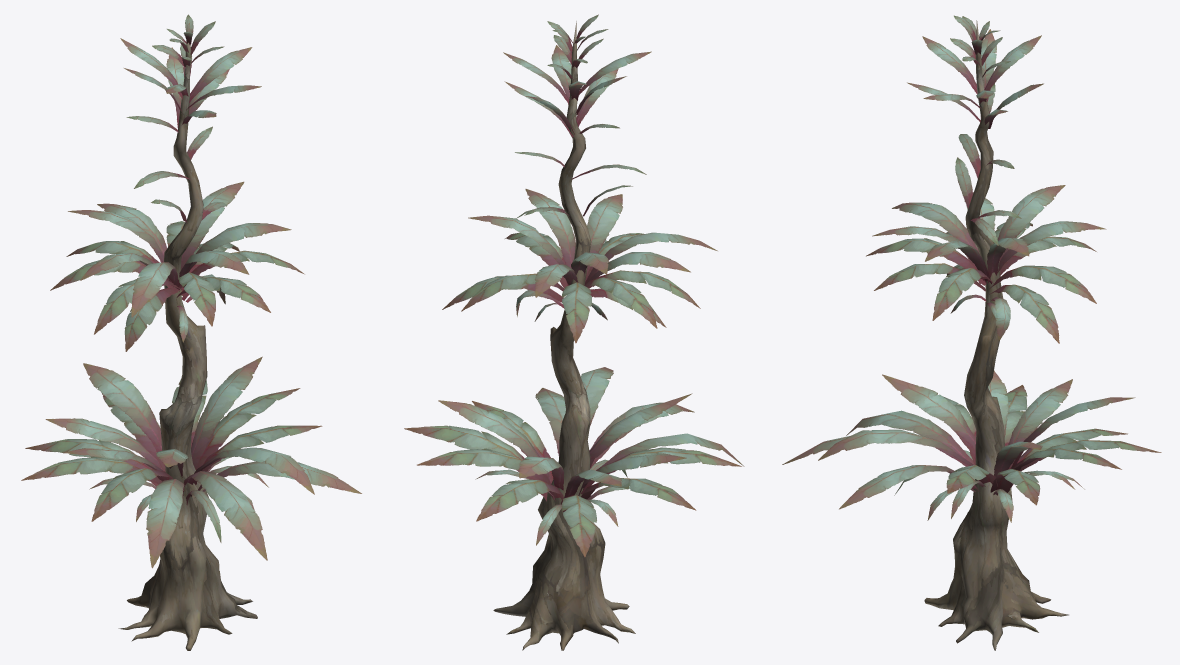
Rendered from SM_Com_Tre_07AM.fbx.
The picture shows the model from 3 angles, left to right: view 1: azimuth 30°, elevation 25°; view 2: azimuth 150°, elevation 25°; view 3: azimuth 270°, elevation 25°; orthographic projection.
Parts seen in each view (by area): view 1: SM_Com_Tre_07AM.mo; view 2: SM_Com_Tre_07AM.mo; view 3: SM_Com_Tre_07AM.mo.
Part boxes in pixels (x1,y1,x2,y2): SM_Com_Tre_07AM.mo: (21,14,361,650); SM_Com_Tre_07AM.mo: (404,14,744,650); SM_Com_Tre_07AM.mo: (782,15,1161,650).
Bounding box in the file's own units: 4.39 × 8.63 × 5.06.
